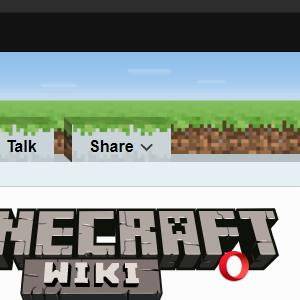opera: (219, 250, 249, 281)
